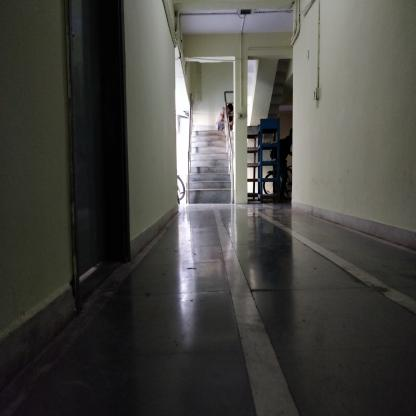stairs: (194, 131, 226, 207)
